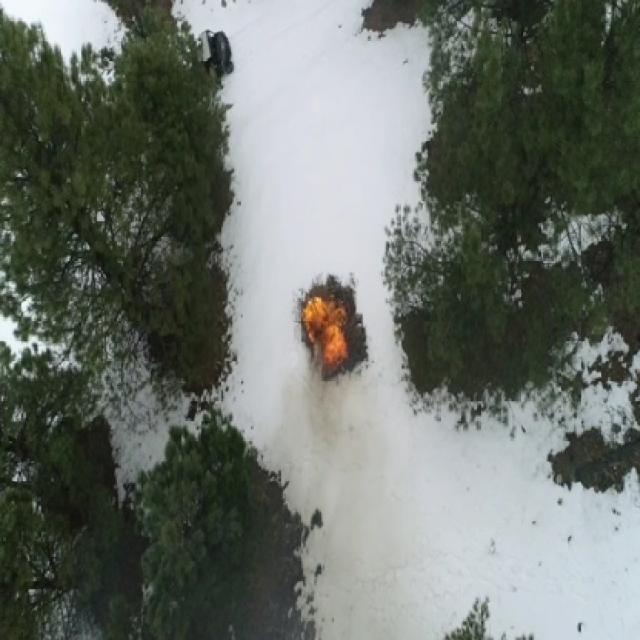Fire: (306, 296, 348, 381)
